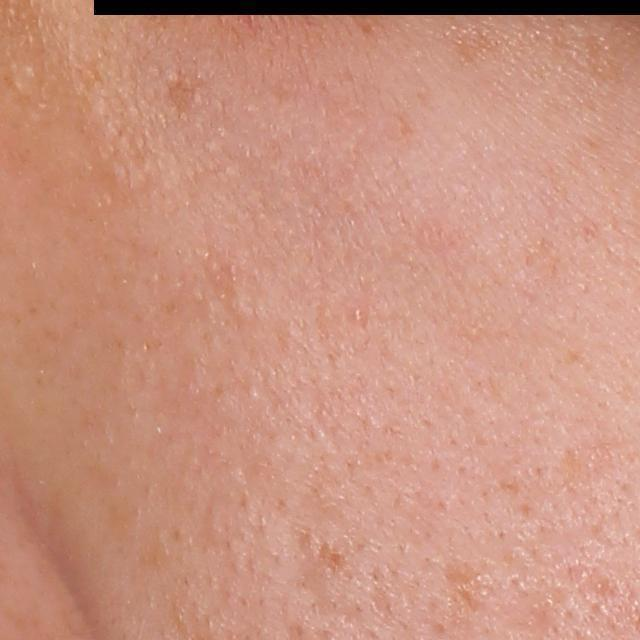melasma: (441, 20, 514, 75), (160, 61, 210, 123)
